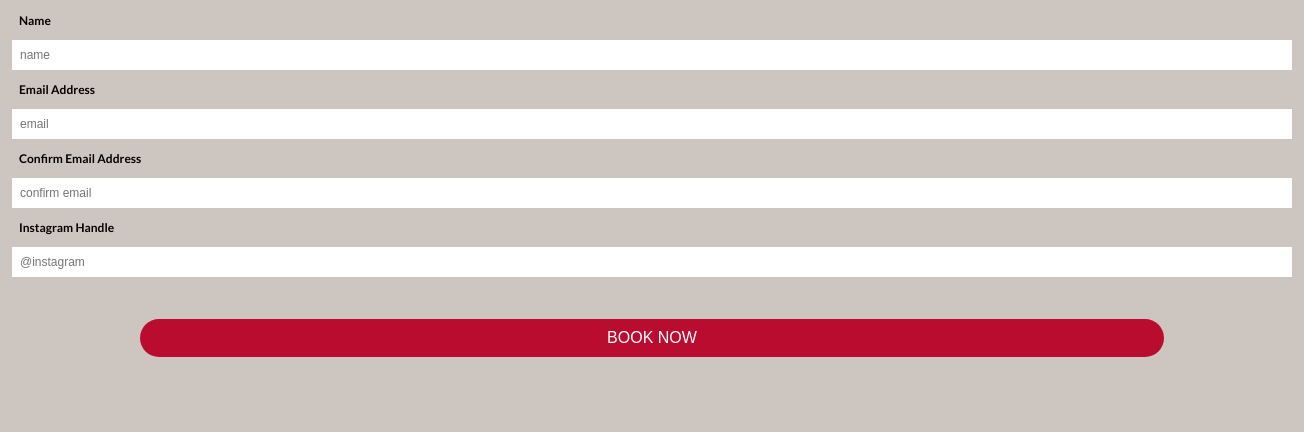
AuthForm › Behavior › should display error on submit with no name value
This screenshot has width=1304, height=432.
Click the button: (652, 338) [140,319,1164,357]
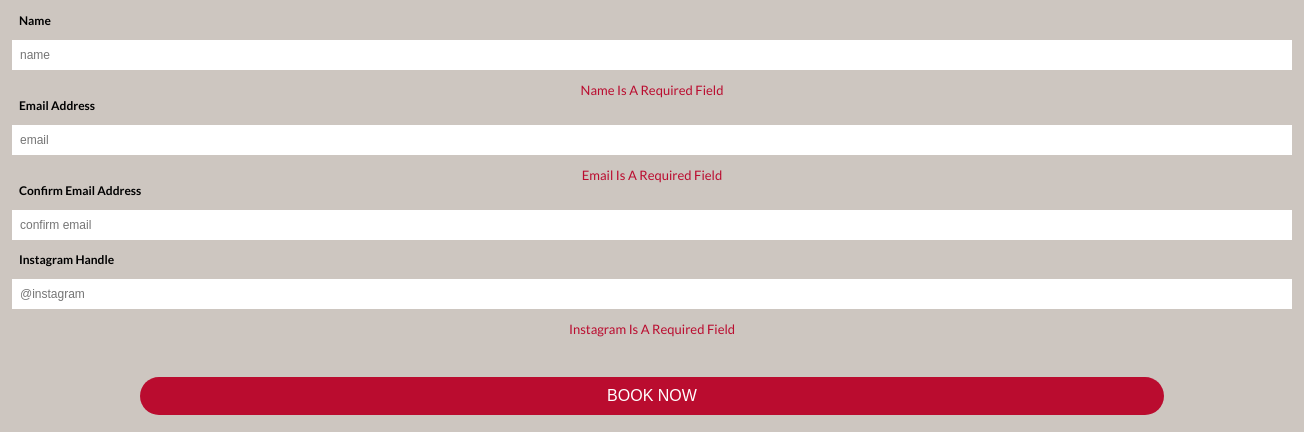
Check: the message named "name-error" is shown, box [581,82,723,98]
Check: the message named "email-error" is shown, box [582,167,722,183]
Check: the message named "instagram-error" is shown, box [569,321,735,337]
